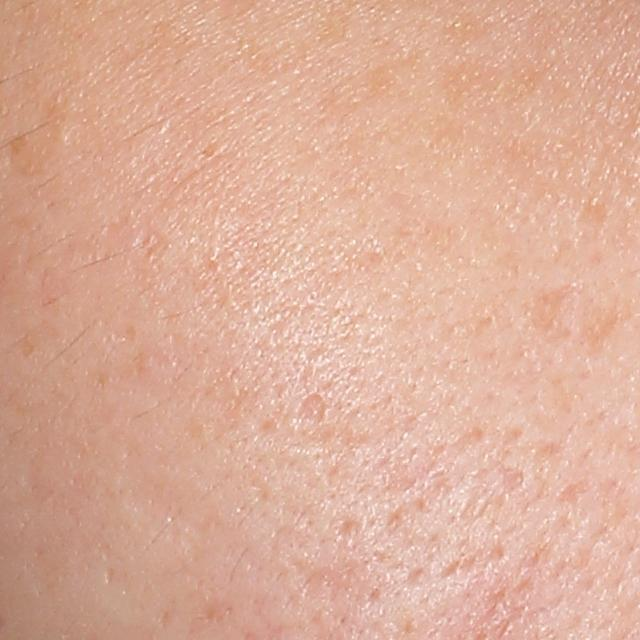atrophic_scar: (280, 510, 380, 616), (122, 473, 227, 548), (525, 282, 575, 356), (297, 390, 327, 421), (103, 566, 116, 585)
melasma: (435, 10, 574, 119), (321, 45, 440, 121)
